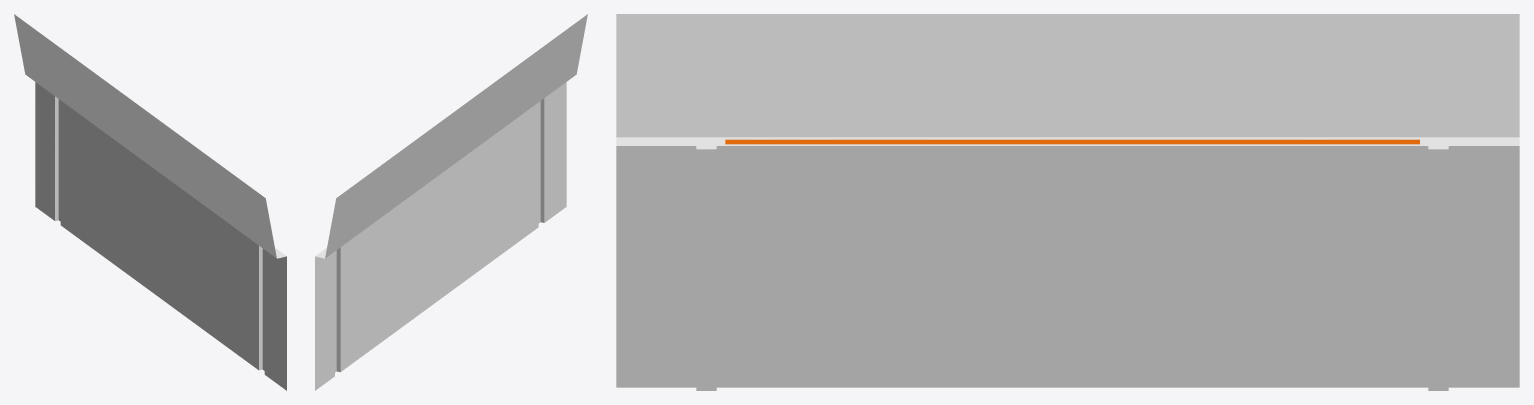
Rendered from AboveDoor.fbx.
3 views of the same model, side by side, from view 1: azimuth 30°, elevation 25°; view 2: azimuth 150°, elevation 25°; view 3: azimuth 270°, elevation 25° (orthographic). The views are drawn at different scales.
Parts seen in each view (by area): view 1: AboveDoor; view 2: AboveDoor; view 3: AboveDoor.
Boxes of the visible parts, x1,y1,x2,y2 form: AboveDoor: (14,14,286,390); AboveDoor: (315,14,587,390); AboveDoor: (616,14,1519,390).
Bounding box in the file's own units: 37.53 × 285 × 657.
